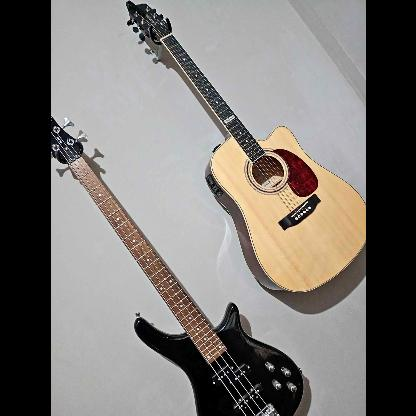acousticguitar: (121, 4, 365, 296)
bass: (50, 116, 304, 416)
